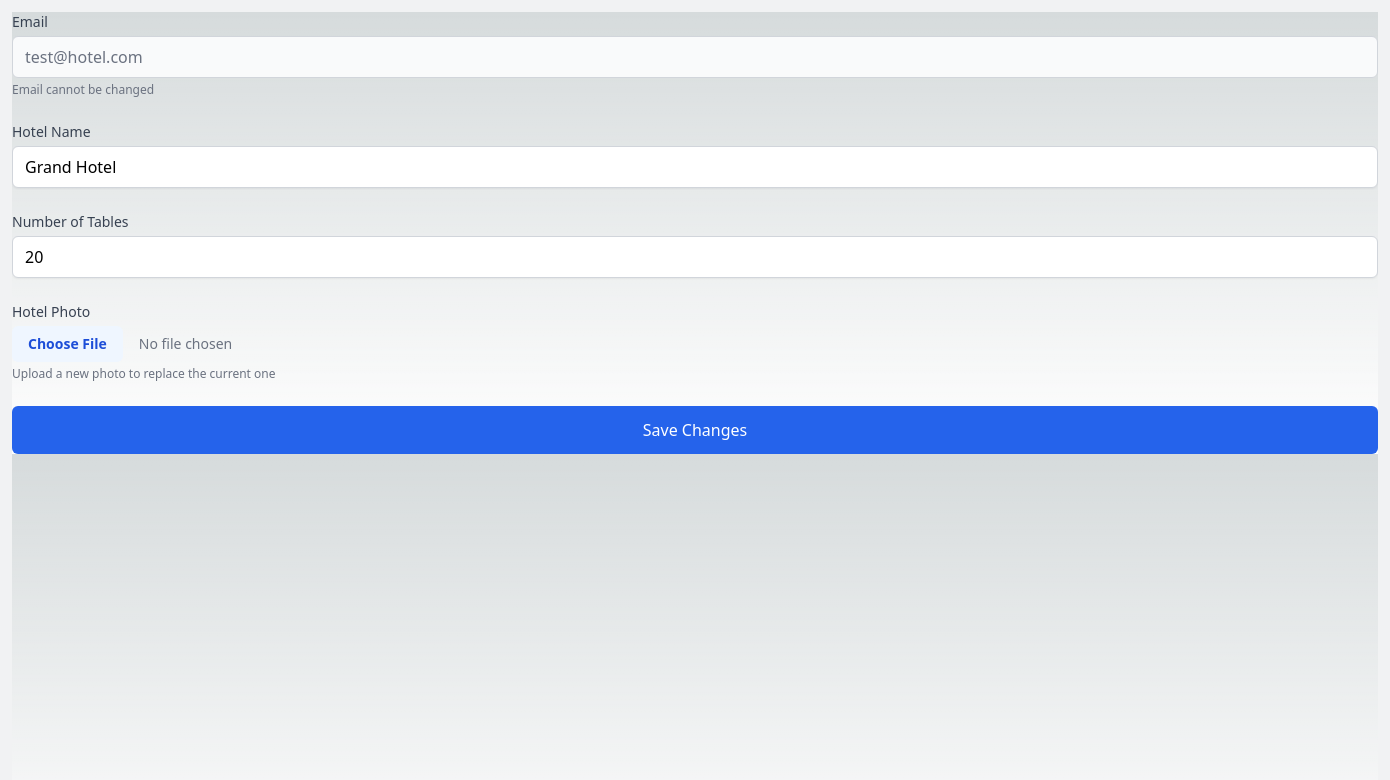
ProfileForm › displays validation error for empty hotel name
The image size is (1390, 780).
Clear the field labelled "Hotel Name": point(695, 167) [12,146,1378,188]
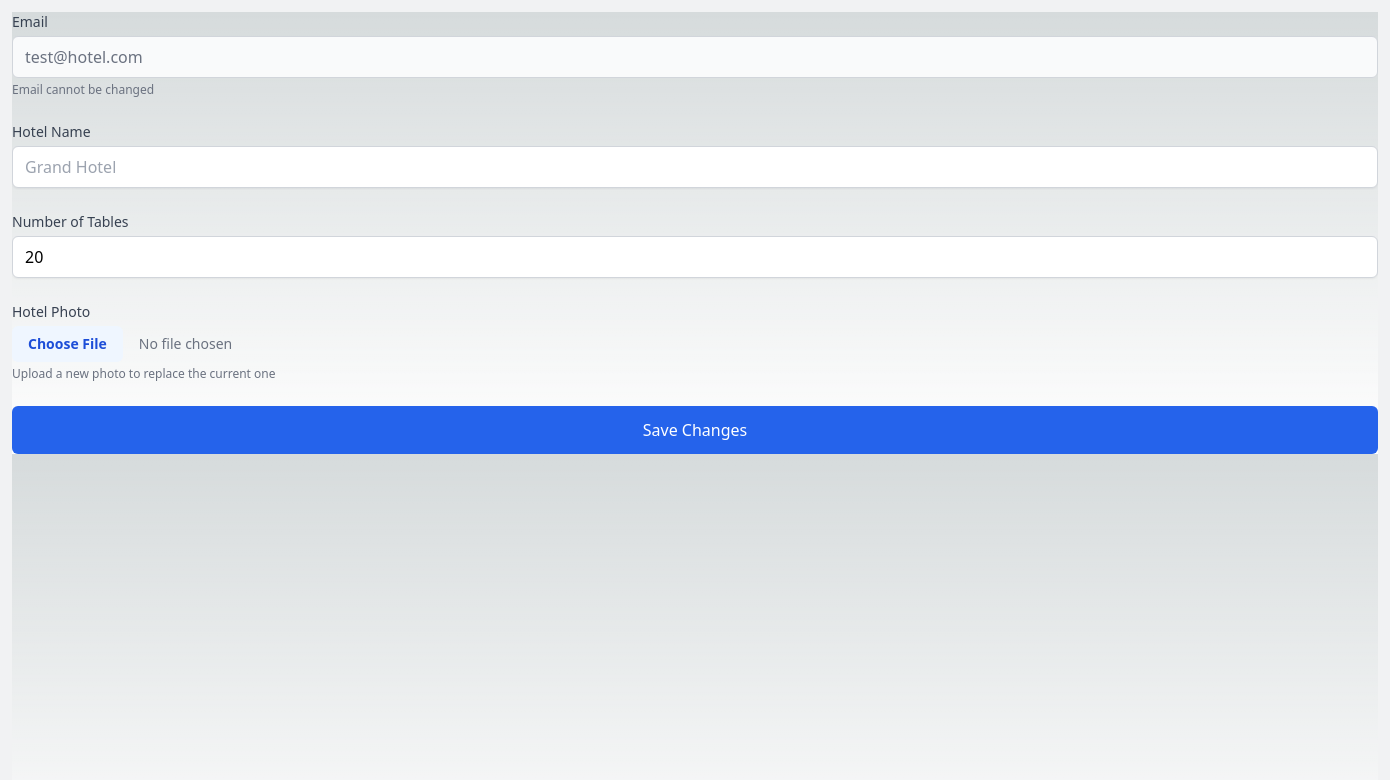
Click the button "Save Changes": point(695, 430) [12,406,1378,454]
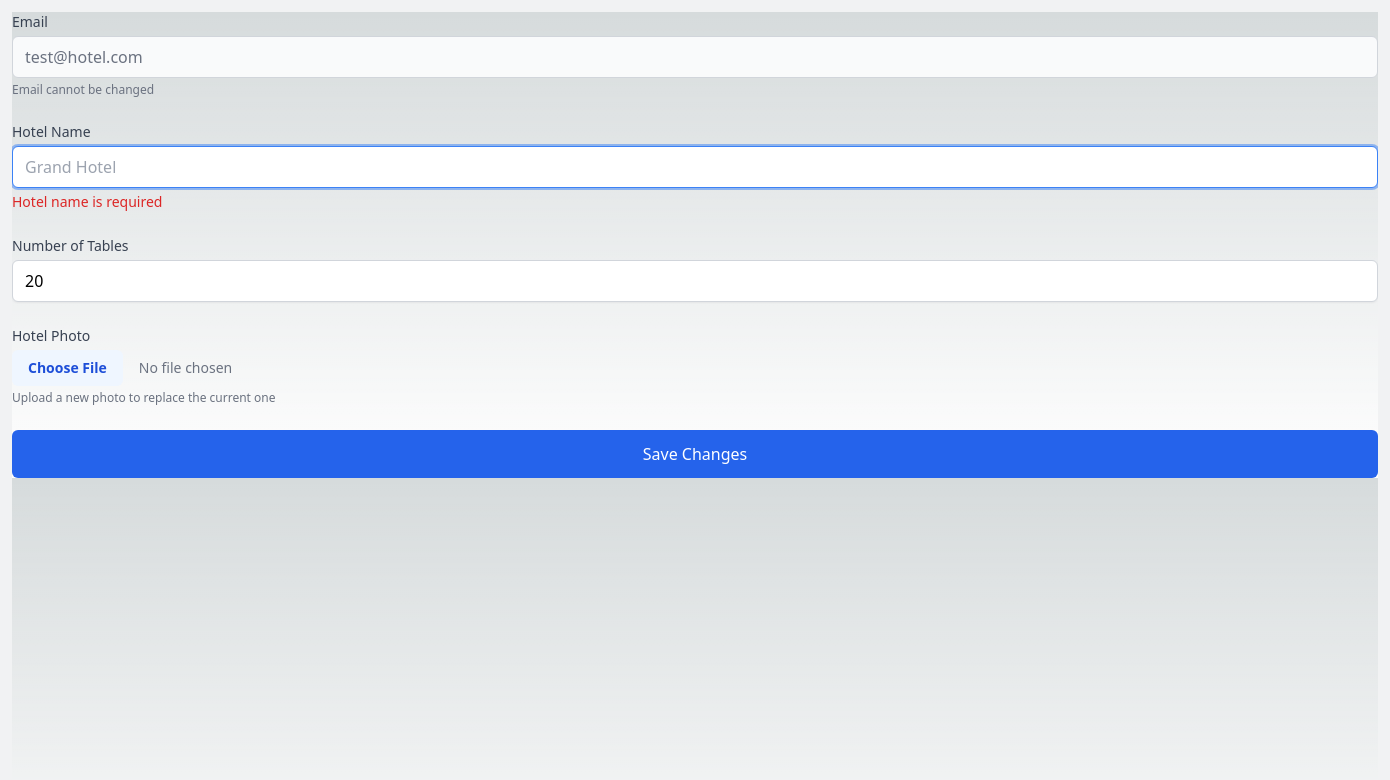
Expected: the text "Hotel name is required" is shown, [12,192,162,211]
